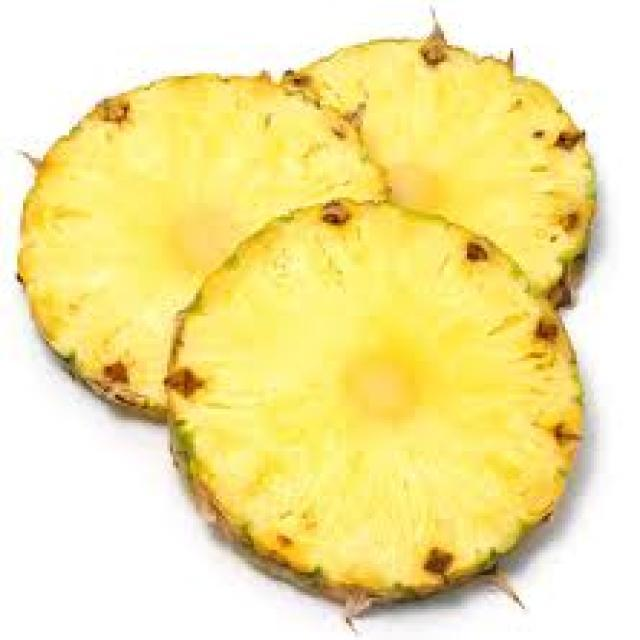Pineapple: (14, 6, 620, 614)
